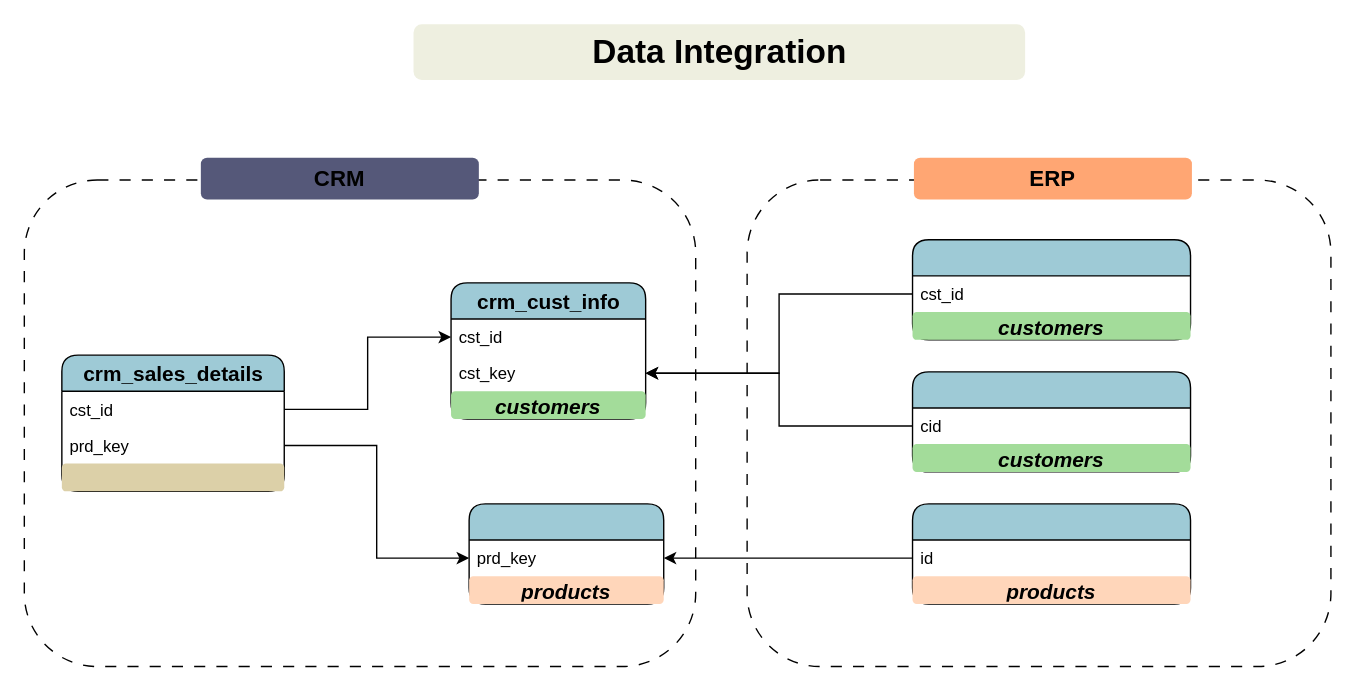
Image size: 1355x691. Some labels were removed from this diagram. Here are the shapes that lost their labels. From the top down, the box of each, then its label:
(911, 238, 1191, 340): erp_loc_a101
(911, 370, 1191, 472): erp_cust_az12
(61, 463, 284, 491): sales
(468, 502, 664, 604): crm_prd_info
(911, 502, 1191, 604): erp_px_cat_g1v2
